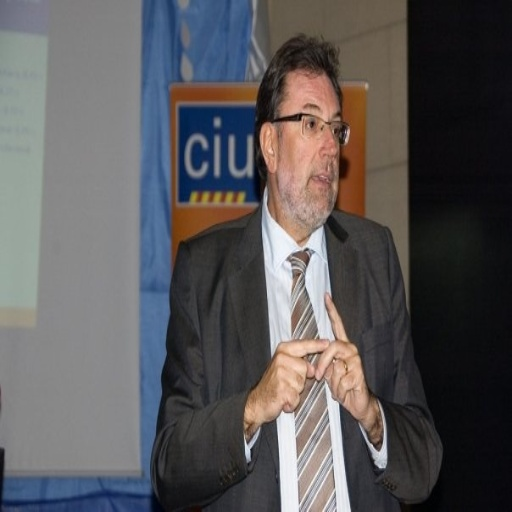hand: (249, 329, 328, 433), (313, 289, 371, 422)
